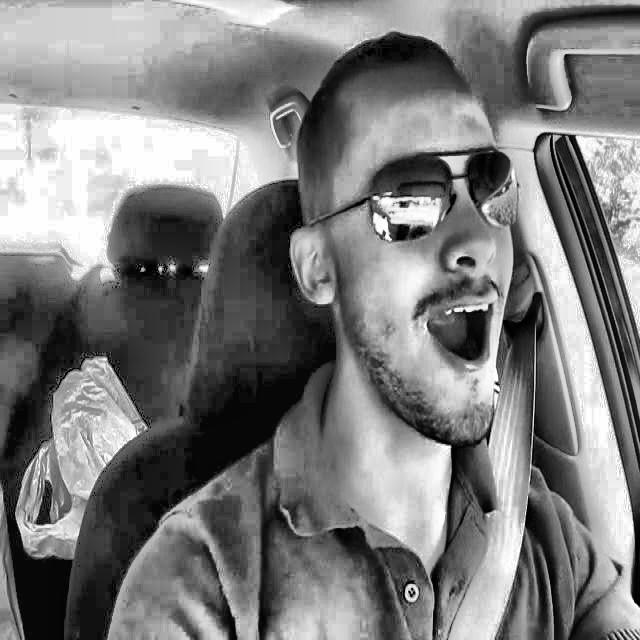open_mouth: (410, 282, 516, 387)
